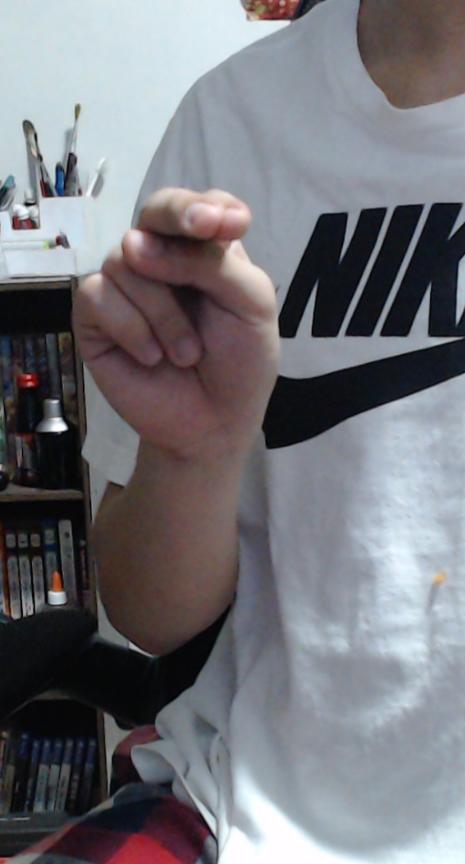n: (69, 184, 279, 449)
